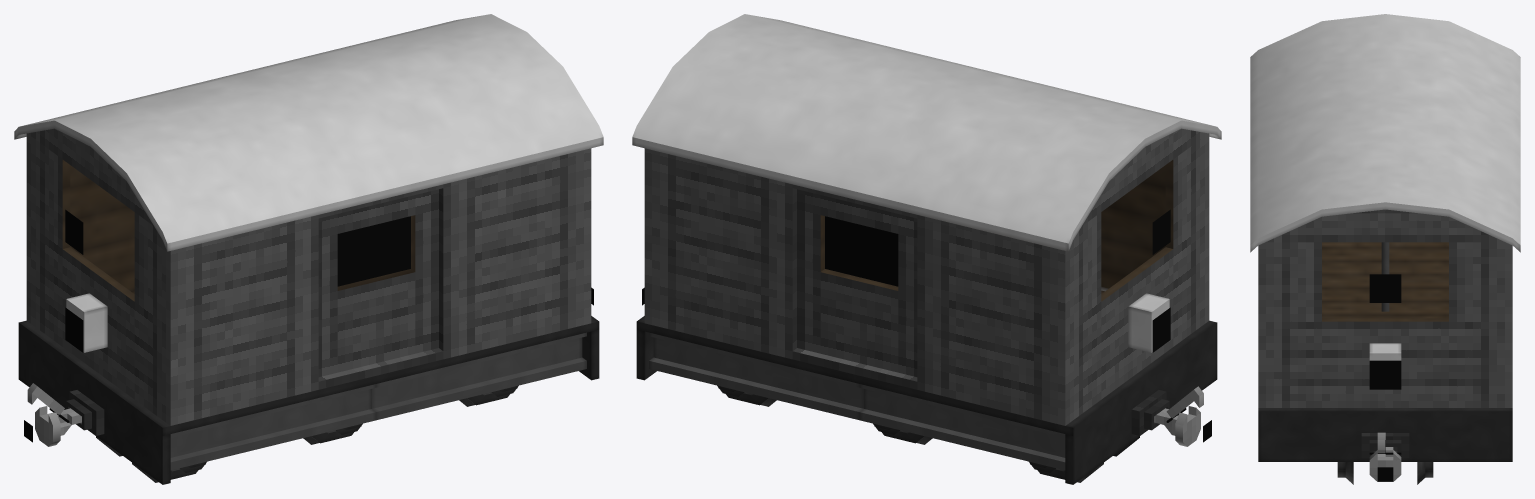
File: caboose.obj
3 renders of one model, left to right at view 1: azimuth 30°, elevation 25°; view 2: azimuth 150°, elevation 25°; view 3: azimuth 270°, elevation 25°, orthographic. The views are drawn at different scales.
Parts seen in each view (by area): view 1: SHELL_WOOD, SHELL_WOOD.001, FRAME, DOOR_1, SHELL_WOOD_INTERIOR, DOOR_1.001, COUPLER_ENGAGED_FRONT_1_TOGGLE_LABEL_Uncouple, WIDGET_2_TOGGLE_HIDE_CG_fronttail_LABEL_Front^Taillamp, DOOR_1_EXTERNAL_INTERIOR_TL_1_X, HEADLIGHT_2_LCG_fronttail_0xFF0000, DOOR_4_NOTOUCH_CONNECTING; view 2: SHELL_WOOD, SHELL_WOOD.001, FRAME, DOOR_2, SHELL_WOOD_INTERIOR, DOOR_2.001, COUPLER_ENGAGED_FRONT_1_TOGGLE_LABEL_Uncouple, WIDGET_2_TOGGLE_HIDE_CG_fronttail_LABEL_Front^Taillamp, DOOR_2_EXTERNAL_INTERIOR_TL_-1_X, HEADLIGHT_2_LCG_fronttail_0xFF0000, DOOR_4_NOTOUCH_CONNECTING; view 3: SHELL_WOOD.001, SHELL_WOOD, FRAME, SHELL_WOOD_INTERIOR, COUPLER_ENGAGED_REAR_2_TOGGLE_LABEL_Uncouple, HEADLIGHT_1_LCG_reartail_0xFF0000, DOOR_3_NOTOUCH_CONNECTING, FRAME_WHEEL_3, WIDGET_1_TOGGLE_HIDE_CG_reartail_LABEL_Rear^Taillamp, GAUGE_IND_BRAKE_1.
Boxes of the visible parts, x1,y1,x2,y2 form: SHELL_WOOD: (26, 128, 591, 425); SHELL_WOOD.001: (14, 14, 603, 251); FRAME: (18, 316, 599, 484); DOOR_1: (318, 189, 438, 376); SHELL_WOOD_INTERIOR: (62, 160, 134, 301); DOOR_1.001: (337, 216, 410, 286); COUPLER_ENGAGED_FRONT_1_TOGGLE_LABEL_Uncouple: (24, 390, 104, 446); WIDGET_2_TOGGLE_HIDE_CG_fronttail_LABEL_Front^Taillamp: (66, 293, 107, 352); DOOR_1_EXTERNAL_INTERIOR_TL_1_X: (337, 215, 415, 290); HEADLIGHT_2_LCG_fronttail_0xFF0000: (65, 307, 83, 352); DOOR_4_NOTOUCH_CONNECTING: (65, 209, 83, 254); SHELL_WOOD: (644, 128, 1209, 425); SHELL_WOOD.001: (632, 14, 1221, 251); FRAME: (636, 316, 1217, 484); DOOR_2: (797, 189, 917, 376); SHELL_WOOD_INTERIOR: (1101, 160, 1173, 301); DOOR_2.001: (825, 216, 898, 286); COUPLER_ENGAGED_FRONT_1_TOGGLE_LABEL_Uncouple: (1131, 390, 1211, 446); WIDGET_2_TOGGLE_HIDE_CG_fronttail_LABEL_Front^Taillamp: (1128, 293, 1169, 352); DOOR_2_EXTERNAL_INTERIOR_TL_-1_X: (820, 215, 898, 290); HEADLIGHT_2_LCG_fronttail_0xFF0000: (1152, 307, 1170, 352); DOOR_4_NOTOUCH_CONNECTING: (1152, 209, 1170, 254); SHELL_WOOD.001: (1250, 14, 1520, 252); SHELL_WOOD: (1258, 209, 1512, 407); FRAME: (1258, 408, 1512, 461); SHELL_WOOD_INTERIOR: (1322, 242, 1448, 321); COUPLER_ENGAGED_REAR_2_TOGGLE_LABEL_Uncouple: (1361, 433, 1409, 481); HEADLIGHT_1_LCG_reartail_0xFF0000: (1369, 360, 1401, 389); DOOR_3_NOTOUCH_CONNECTING: (1369, 274, 1401, 302); FRAME_WHEEL_3: (1337, 462, 1433, 484); WIDGET_1_TOGGLE_HIDE_CG_reartail_LABEL_Rear^Taillamp: (1369, 343, 1401, 360); GAUGE_IND_BRAKE_1: (1381, 242, 1389, 311).
Bounding box in the file's own units: 4.5 × 2.62 × 2.12.
3 materials, 3 textured.
